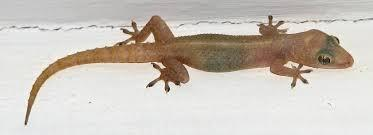lizard: (21, 14, 354, 130)
